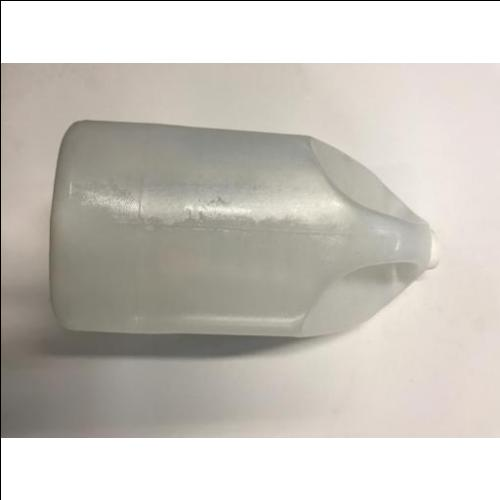plastic: (56, 119, 441, 341)
